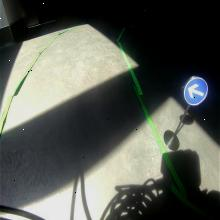left: (183, 73, 207, 106)
